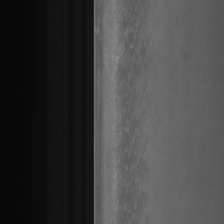silk_spot: (115, 17, 151, 196)
